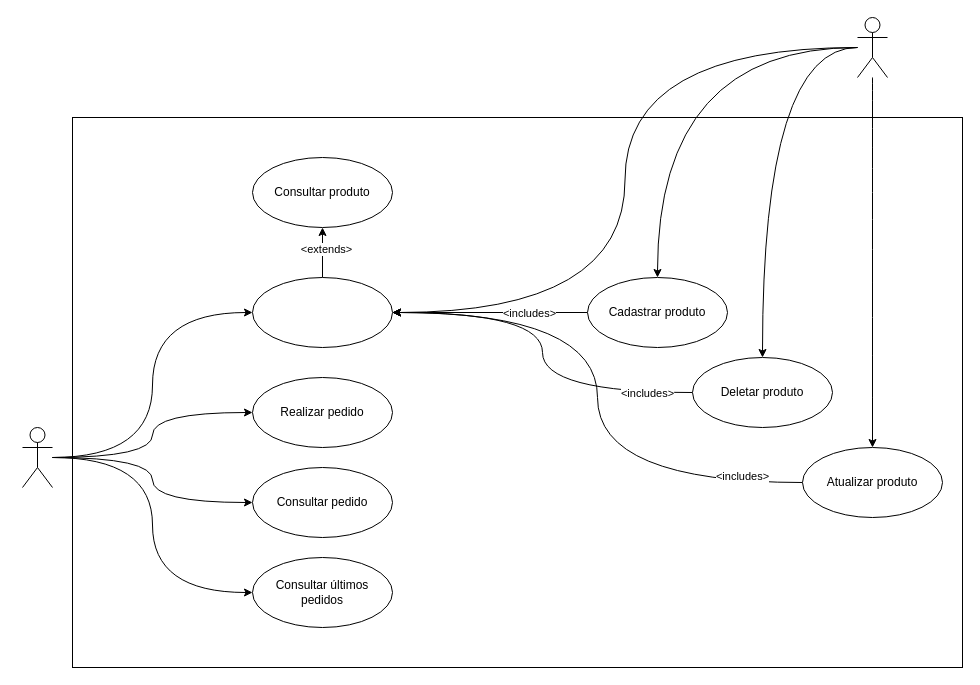
The diagram is 980 pixels wide and 685 high, and some of its shapes have lost their labels. The centre of each missing label's shape, as x and y in pixels:
Acessar menu: (322,312)
Administrador: (872,47)
Usuário: (37,457)
